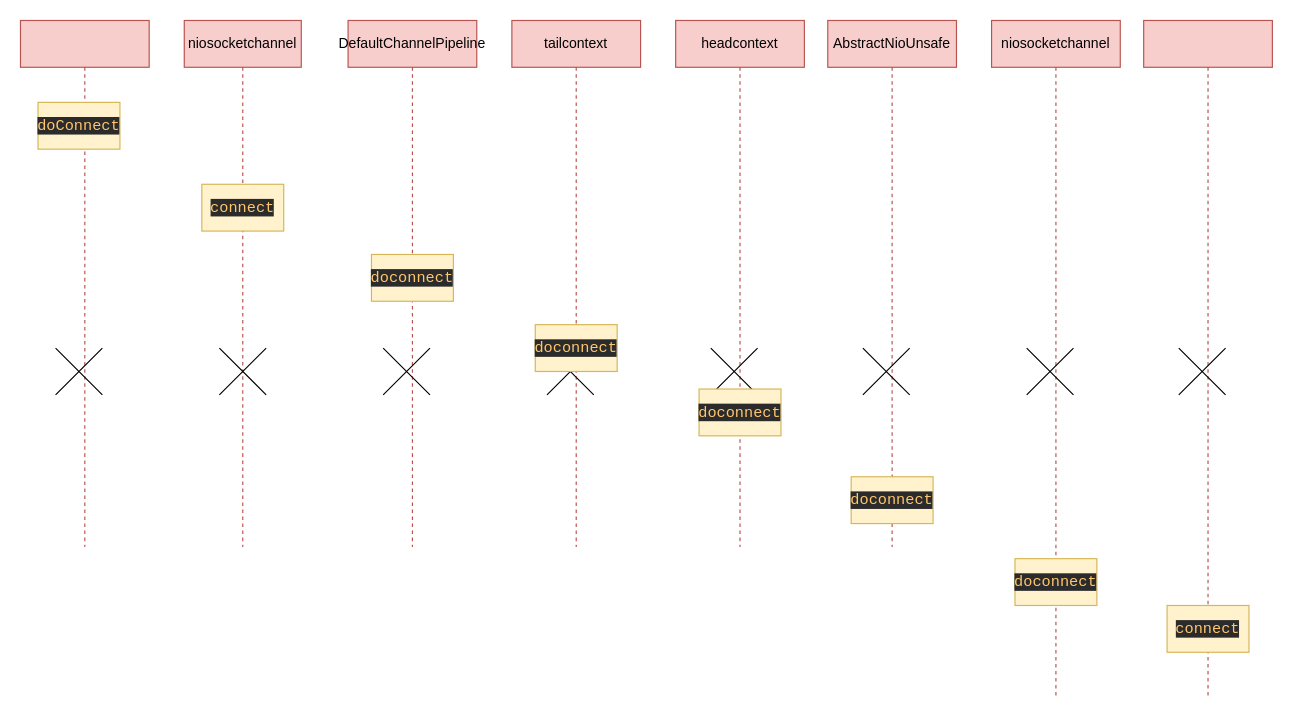
Some shapes in this 1293 by 720 pixel diagram are drawn without their labels. Here are the shapes that lost their labels. From the top down, the box of each, then its label:
(19, 19, 149, 547): nioeventloop
(1143, 19, 1272, 699): socketchannel
